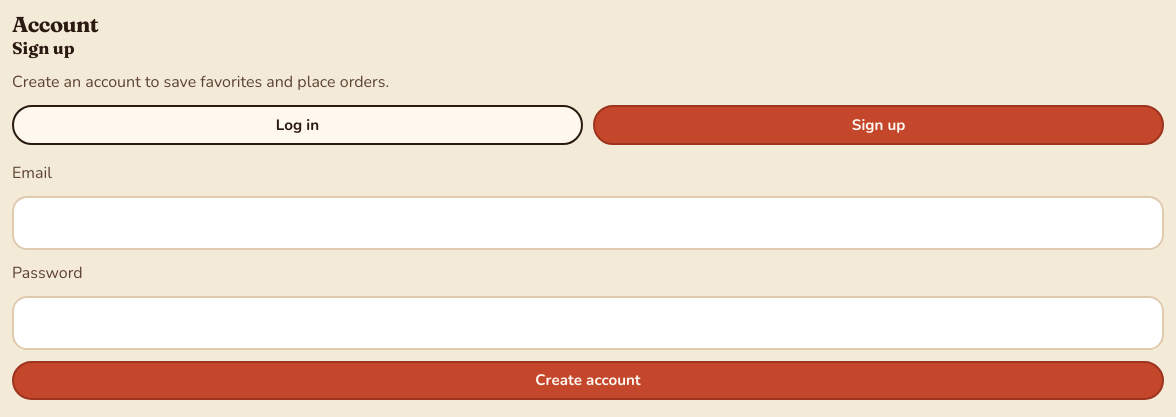
Test: AccountPanel › logs in and then loads the profile
Expected: the field labelled "Email" is shown, x1=12 y1=196 x2=1164 y2=250
Click the button "Log in": (297, 125) x1=12 y1=105 x2=583 y2=145
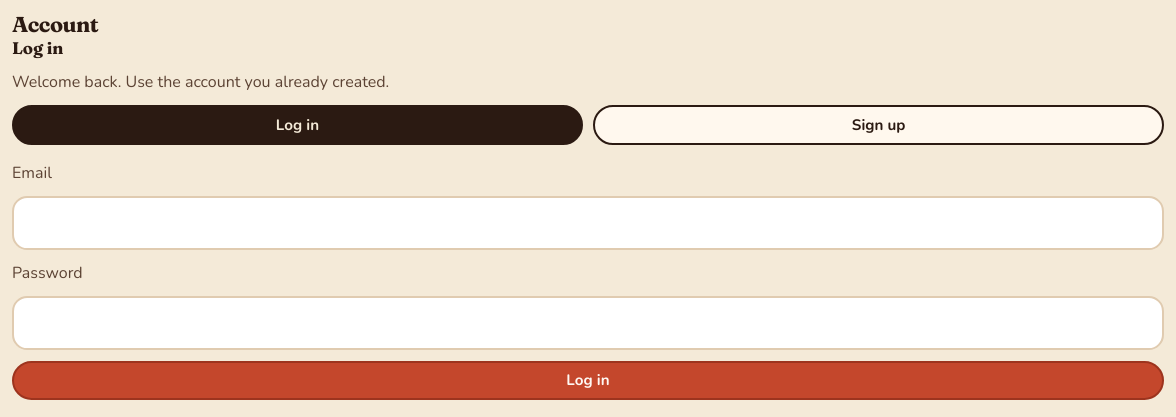
In the field labelled "Email": (588, 223) x1=12 y1=196 x2=1164 y2=250, type "user@example.com"
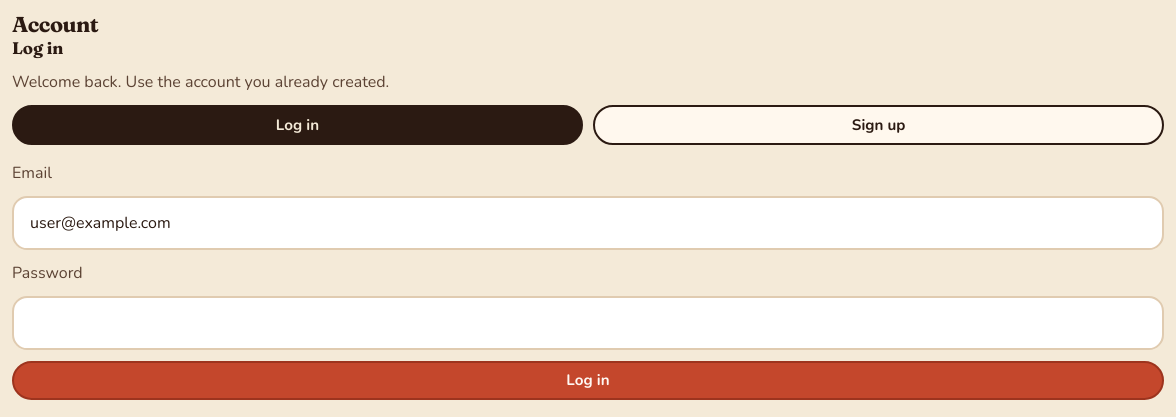
In the password field labelled "Password": (588, 323) x1=12 y1=296 x2=1164 y2=350, type "password1"
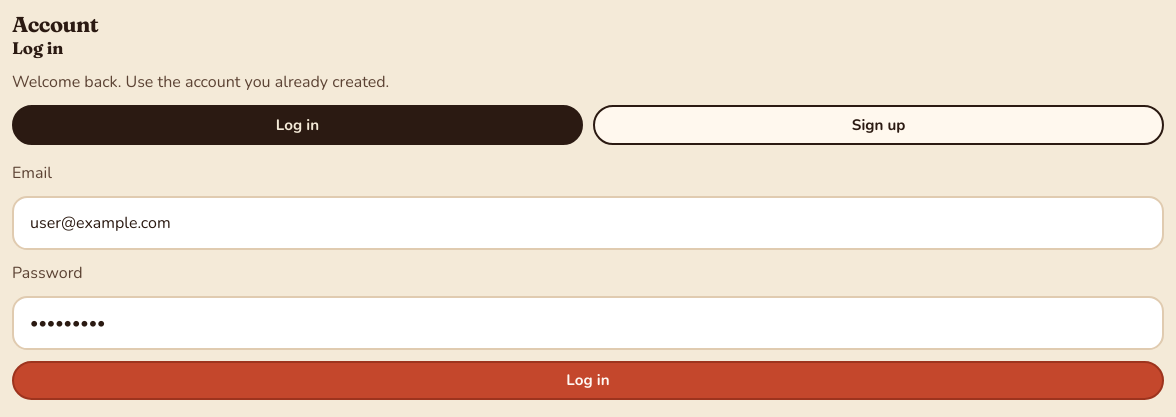
Click the 2nd button "Log in": (588, 381) x1=12 y1=361 x2=1164 y2=400
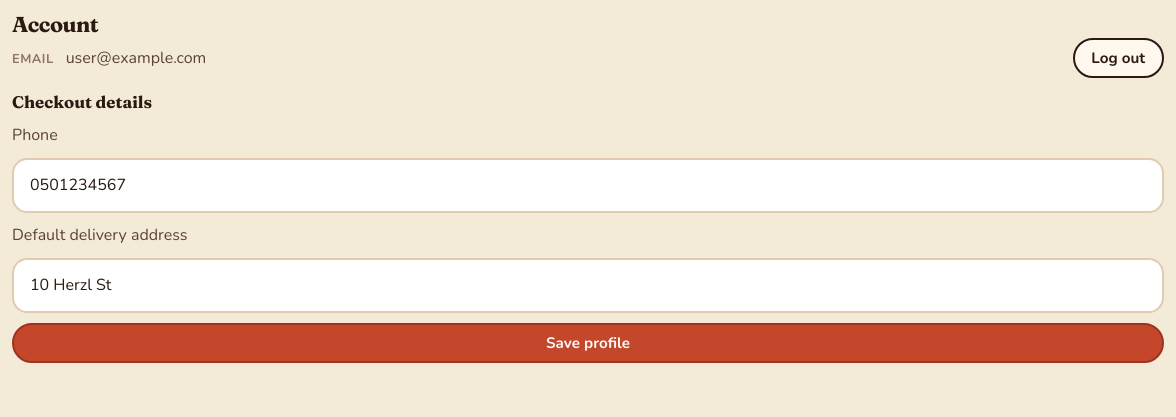
Expected: the text "user@example.com" is shown, x1=66 y1=46 x2=206 y2=71
Expected: the field showing "0501234567" is shown, x1=12 y1=158 x2=1164 y2=213
Expected: the field showing "10 Herzl St" is shown, x1=12 y1=258 x2=1164 y2=313
